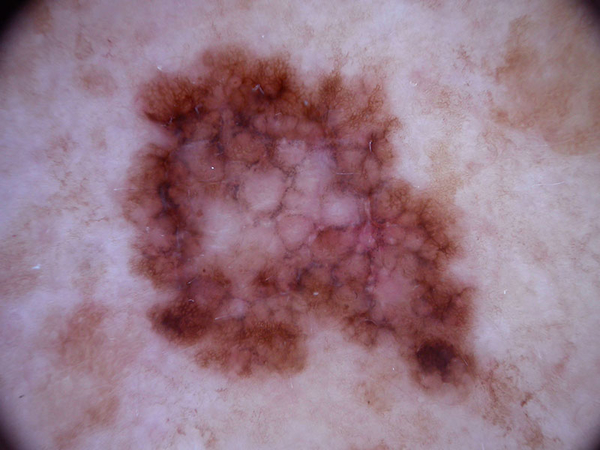Detected Lesion: (118, 39, 487, 420)
